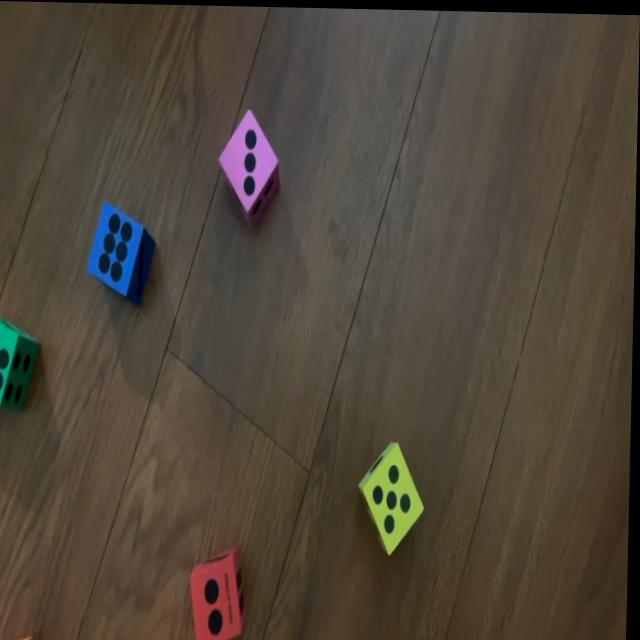blue_block: (88, 197, 157, 304)
red_block: (191, 543, 250, 640)
